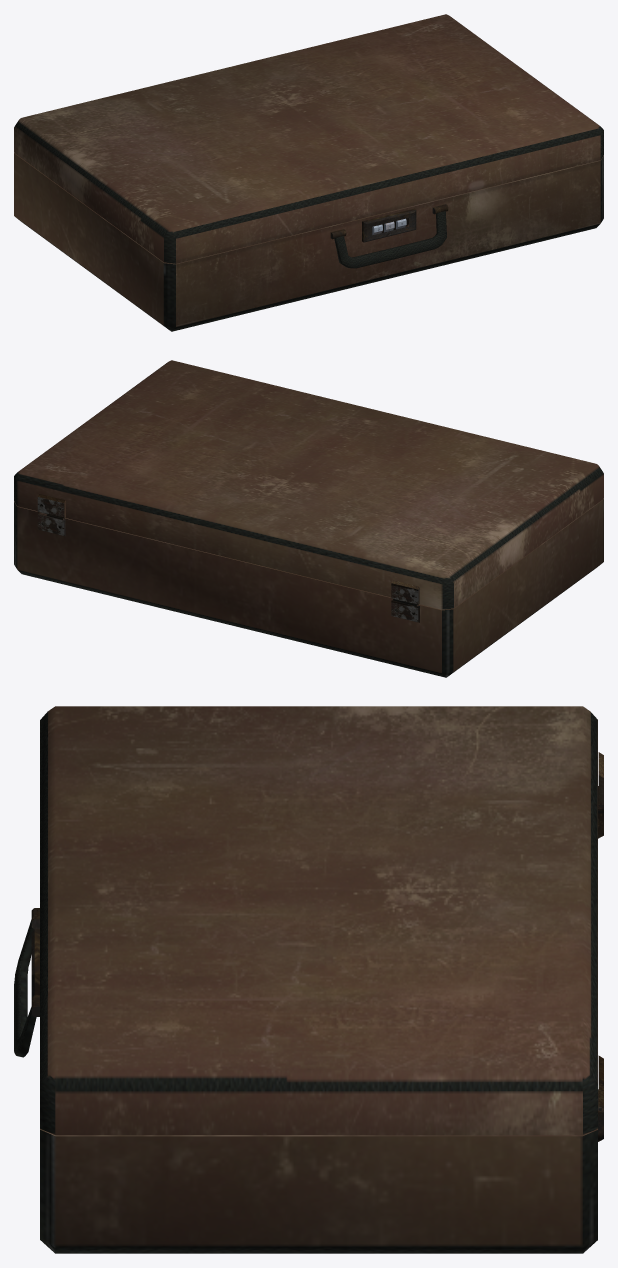
The model's file is suitcase_with_combination_lock.glb.
3 renders of one model, top to bottom at view 1: azimuth 30°, elevation 25°; view 2: azimuth 150°, elevation 25°; view 3: azimuth 270°, elevation 25°, orthographic. The views are drawn at different scales.
Parts seen in each view (by area): view 1: top.001_1, bottom.001_0; view 2: top.001_1, bottom.001_0; view 3: top.001_1, bottom.001_0.
Part boxes in pixels (box(x1,y1,x2,y2)): top.001_1: box(14, 14, 603, 263); bottom.001_0: box(14, 153, 603, 331); top.001_1: box(14, 360, 603, 609); bottom.001_0: box(14, 499, 603, 677); top.001_1: box(40, 706, 603, 1135); bottom.001_0: box(14, 786, 603, 1253).
Bounding box in the file's own units: 0.8 × 0.181 × 0.5287.
Materials: 1 (1 with a texture image).
